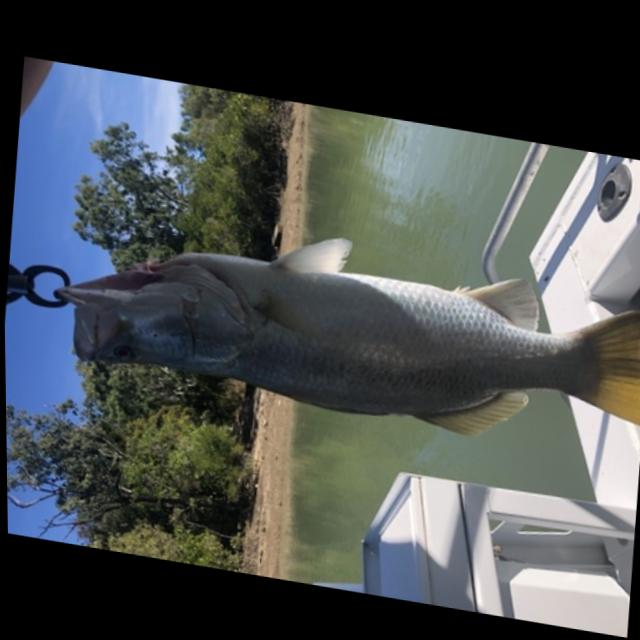Seabass: (44, 185, 640, 464)
